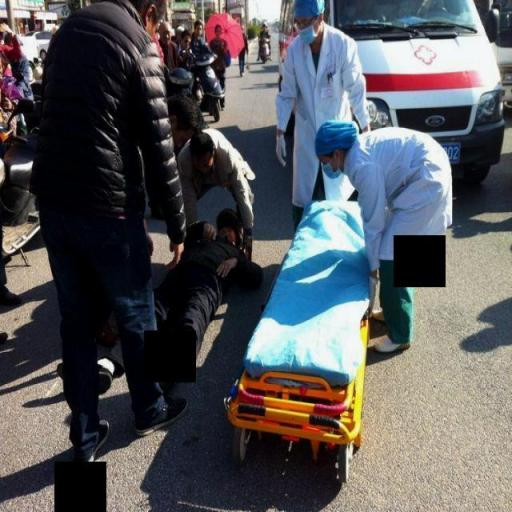Fall: (118, 199, 275, 382)
